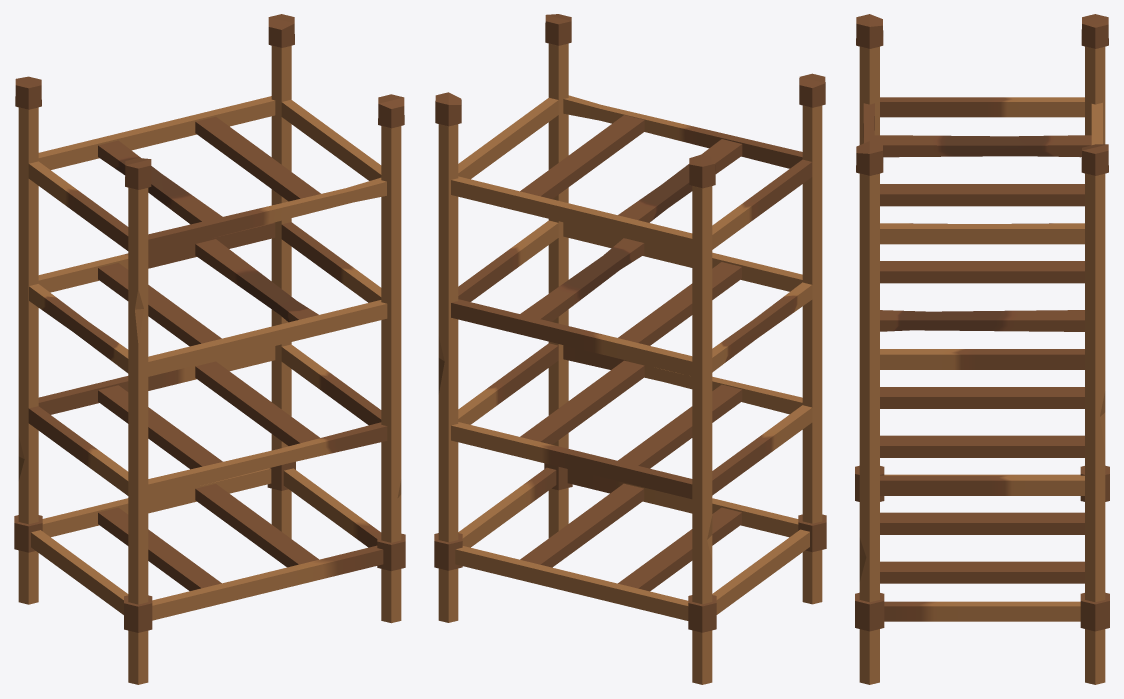
The model's file is SM_Prop_StorageShelf_Large_01.obj.
3 views of the same model, side by side, from view 1: azimuth 30°, elevation 25°; view 2: azimuth 150°, elevation 25°; view 3: azimuth 270°, elevation 25° (orthographic). The views are drawn at different scales.
Parts seen in each view (by area): view 1: SM_Prop_StorageShelf_Large_01_0; view 2: SM_Prop_StorageShelf_Large_01_0; view 3: SM_Prop_StorageShelf_Large_01_0.
Part boxes in pixels (x1,y1,x2,y2): SM_Prop_StorageShelf_Large_01_0: (14, 14, 405, 684); SM_Prop_StorageShelf_Large_01_0: (434, 14, 826, 684); SM_Prop_StorageShelf_Large_01_0: (855, 14, 1109, 684).
Bounding box in the file's own units: 2.7 × 4.76 × 2.06.
Materials: 1 (1 with a texture image).
